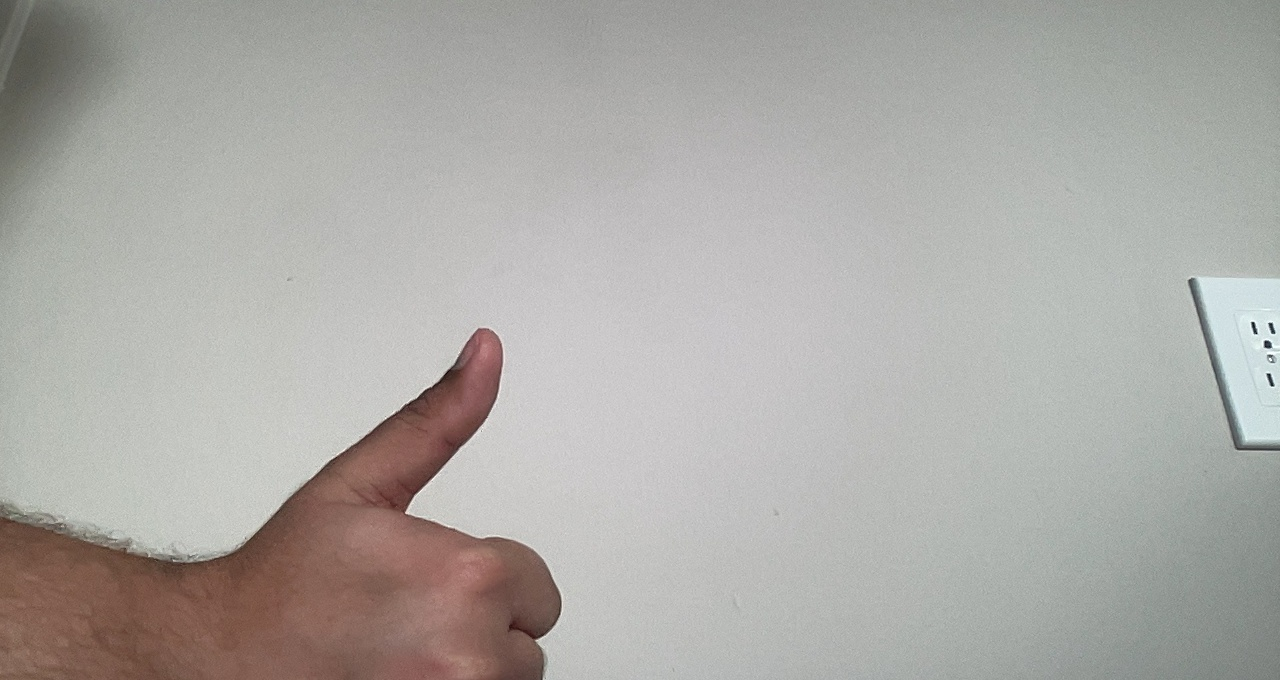thumbsup: (262, 317, 578, 677)
